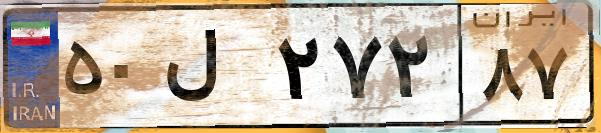0: (110, 28, 158, 98)
2: (270, 28, 330, 110), (385, 28, 445, 110)
5: (57, 26, 110, 100)
7: (330, 28, 385, 110), (525, 38, 570, 115)
8: (475, 38, 525, 113)
ل: (158, 20, 270, 120)
